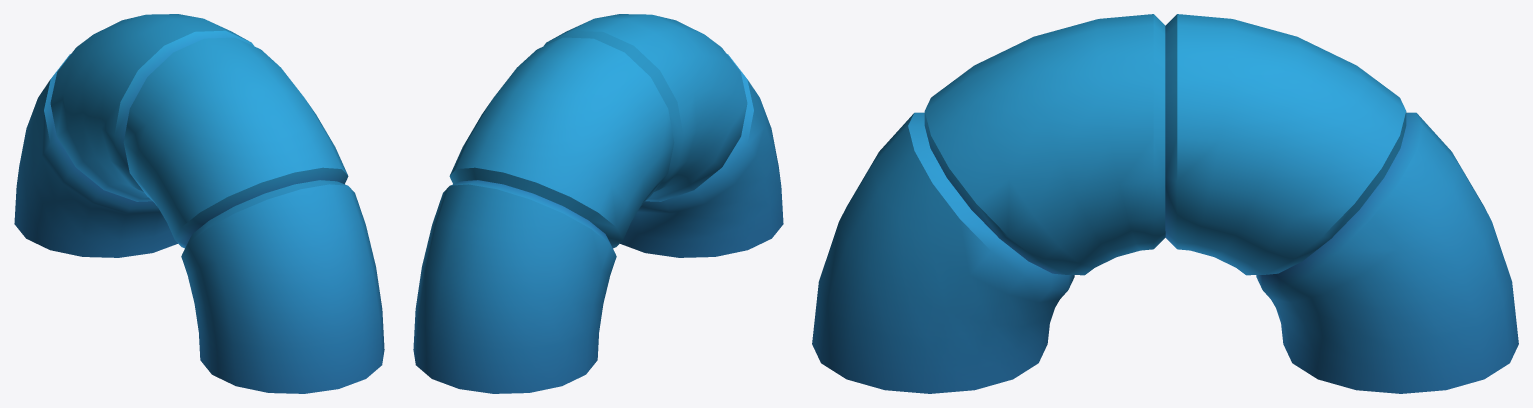
File: pipe_180_B_blue.glb
3 renders of one model, left to right at view 1: azimuth 30°, elevation 25°; view 2: azimuth 150°, elevation 25°; view 3: azimuth 270°, elevation 25°, orthographic. The views are drawn at different scales.
Parts seen in each view (by area): view 1: pipe_180_B_blue; view 2: pipe_180_B_blue; view 3: pipe_180_B_blue.
Part boxes in pixels (box(x1,y1,x2,y2)): pipe_180_B_blue: box(14, 14, 384, 393); pipe_180_B_blue: box(413, 14, 783, 393); pipe_180_B_blue: box(812, 14, 1518, 393).
Size of the model in its own units: 2 by 2.99 by 6.
1 material, 1 textured.
